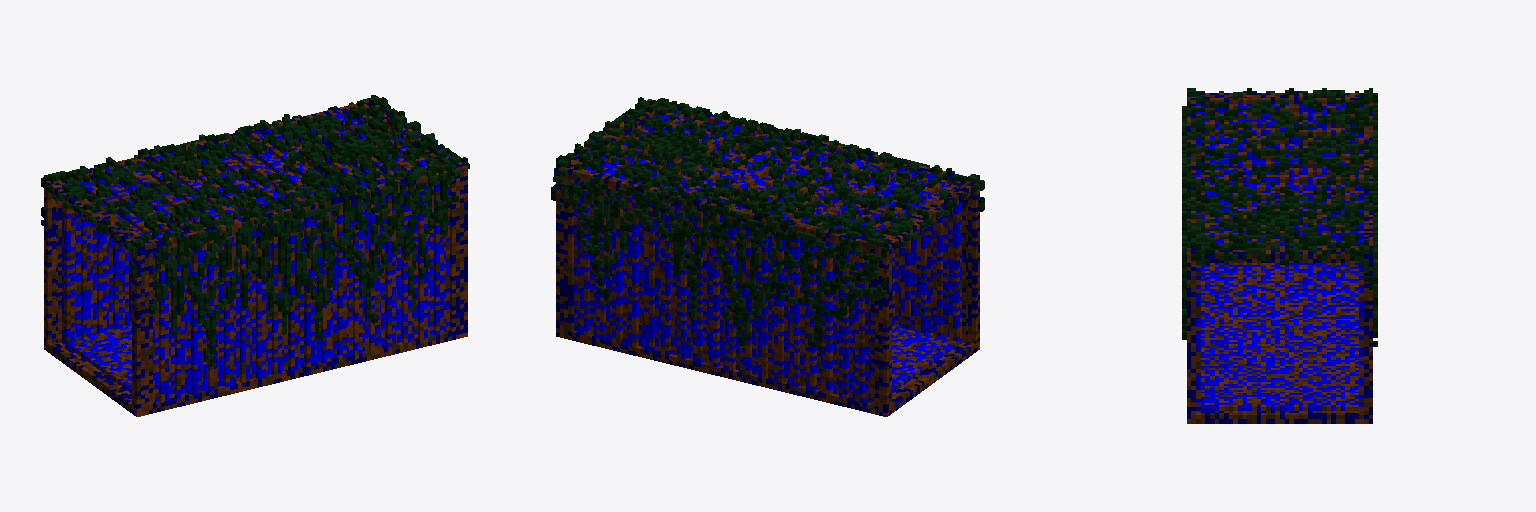
The picture shows the model from 3 angles: view 1: azimuth 30°, elevation 25°; view 2: azimuth 150°, elevation 25°; view 3: azimuth 270°, elevation 25°; orthographic projection.
Parts seen in each view (by area): view 1: object 1; view 2: object 1; view 3: object 1.
Part boxes in pixels (left/top/right/bottom): object 1: left=41, top=95, right=469, bottom=416; object 1: left=551, top=97, right=984, bottom=416; object 1: left=1182, top=88, right=1377, bottom=423.
Bounding box in the file's own units: 8.4 × 4.1 × 4.2.
Materials: 1 (1 with a texture image).